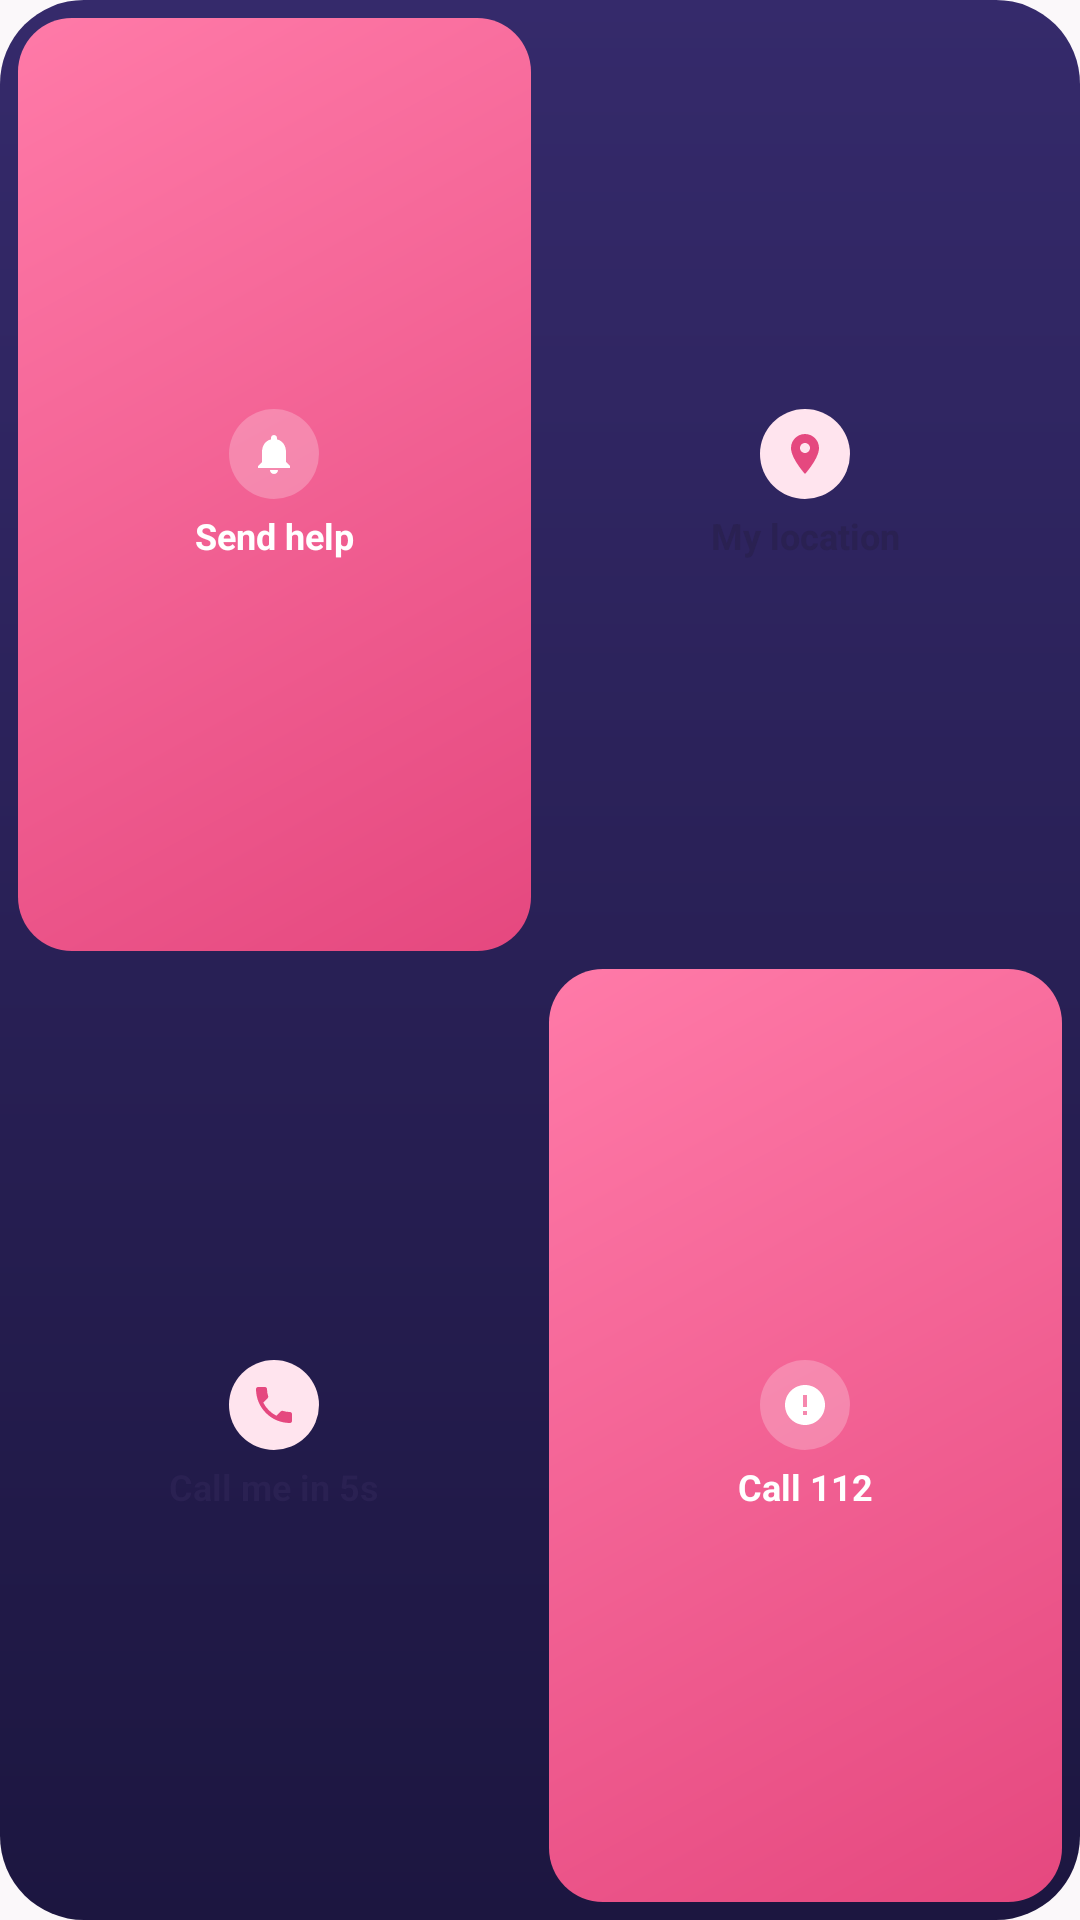

Screen size 1080×1920. Icon name, then its box in pixels as (x1, y1, x2, y2):
bell: (229, 409, 319, 499)
phone: (229, 1360, 319, 1450)
pin: (760, 409, 850, 499)
sos: (760, 1360, 850, 1450)
